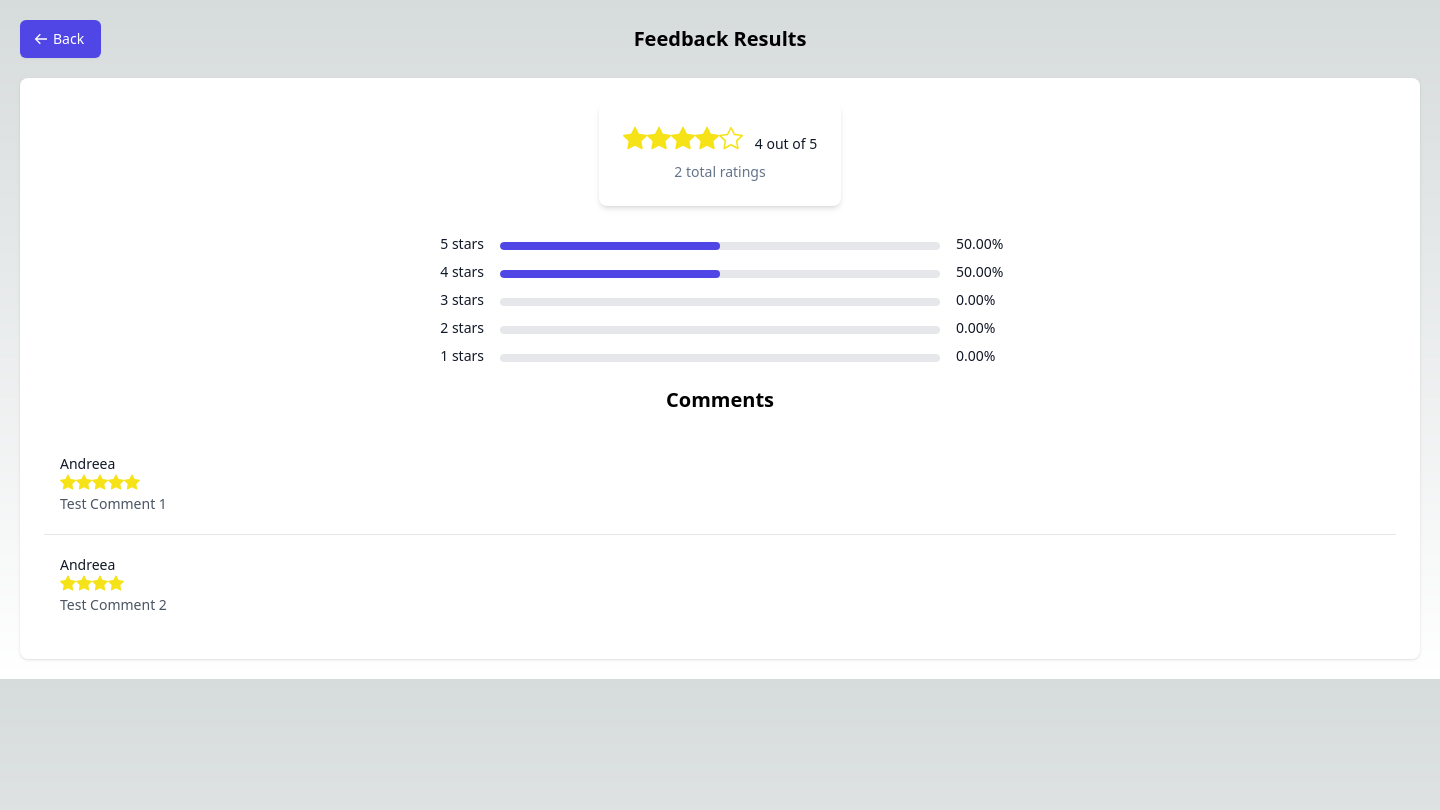
Test case: Feedback Responses Page › filters the data by star rating when star distribution is clicked
# select content based on feedback distribution for 5 stars
Click the button with aria-label "5 star distribution rating" at {"x": 722, "y": 244}, box [440,234,1004,253]
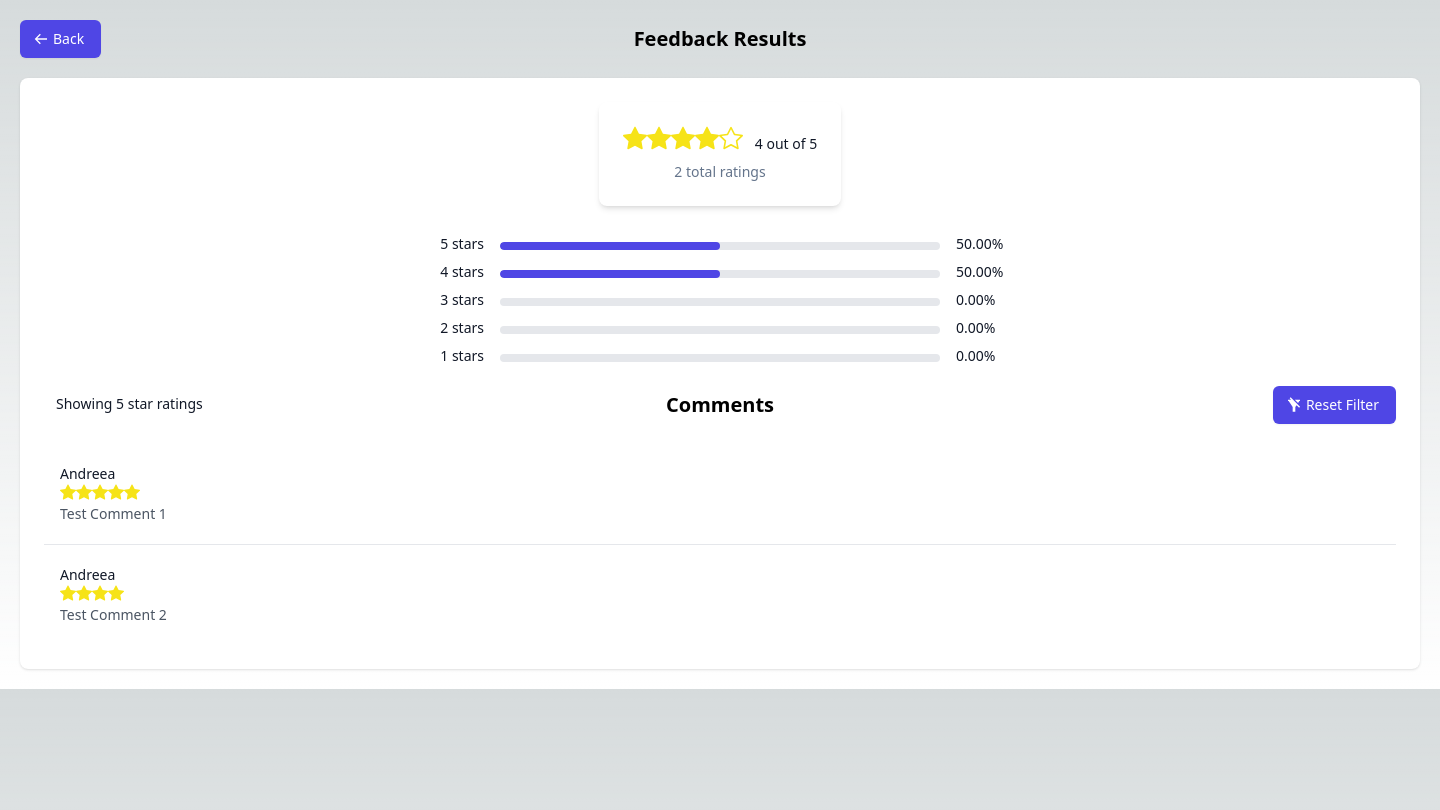
Result: the text "Showing 5 star ratings" is shown at [56,394,203,424]
